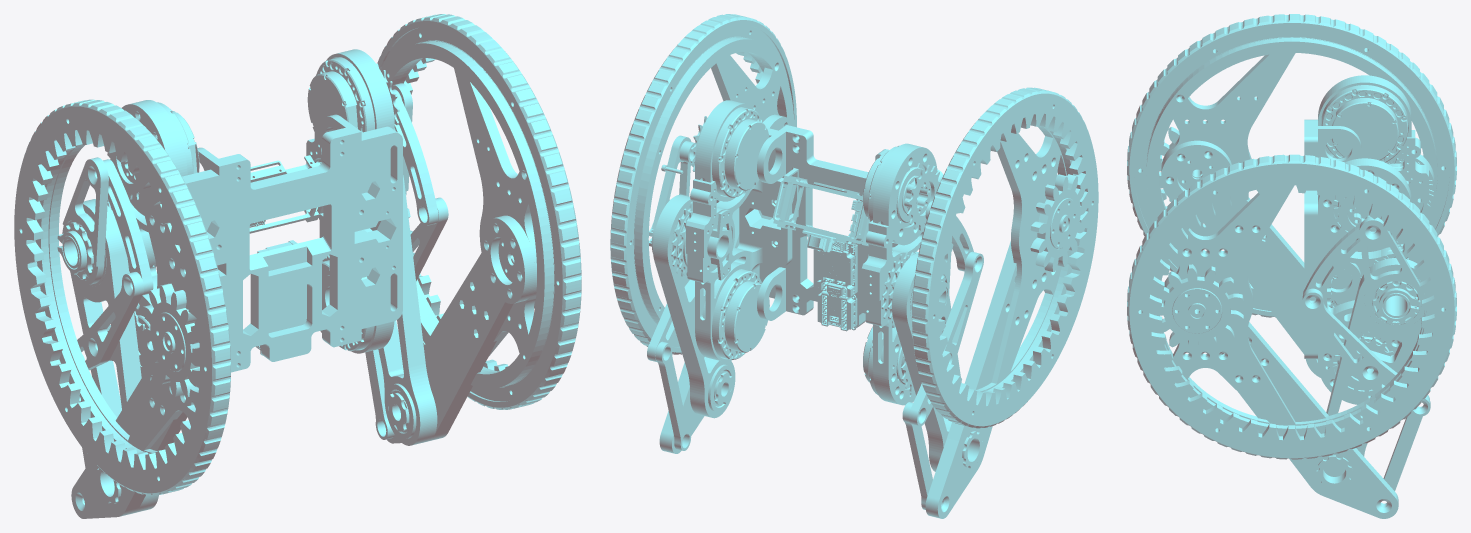
Rendered from Bipedal Wheelchair 3D Prototype Overall Assembly.glb.
3 renders of one model, left to right at view 1: azimuth 30°, elevation 25°; view 2: azimuth 150°, elevation 25°; view 3: azimuth 270°, elevation 25°, orthographic. The views are drawn at different scales.
Visible parts, largest first — view 1: Node10, Node5, Node9, Node3, Node7, Node16, Node11, Node4, Node14, Node2, Node8, Node6 (+4 smaller); view 2: Node5, Node3, Node10, Node14, Node9, Node11, Node2, Node4, Node6, Node13, Node8, Node7 (+4 smaller); view 3: Node1, Node11, Node15, Node12, Node8, Node10, Node9, Node16, Node7, Node4, Node2, Node3 (+4 smaller).
Part boxes in pixels (x1,y1,x2,y2): Node10: [26, 32, 571, 494]; Node5: [14, 40, 580, 493]; Node9: [29, 15, 581, 501]; Node3: [19, 14, 581, 511]; Node7: [27, 18, 566, 495]; Node16: [31, 16, 578, 510]; Node11: [30, 46, 581, 504]; Node4: [28, 15, 575, 511]; Node14: [30, 14, 579, 518]; Node2: [28, 14, 581, 516]; Node8: [28, 14, 549, 495]; Node6: [24, 17, 561, 496]; Node5: [614, 36, 1098, 444]; Node3: [611, 25, 1087, 506]; Node10: [613, 14, 1085, 503]; Node14: [617, 18, 1087, 518]; Node9: [613, 14, 1086, 495]; Node11: [610, 14, 1087, 468]; Node2: [610, 19, 1087, 459]; Node4: [611, 45, 1093, 509]; Node6: [610, 20, 1086, 435]; Node13: [611, 17, 1084, 426]; Node8: [646, 32, 1085, 496]; Node7: [619, 17, 1088, 463]; Node1: [1129, 14, 1456, 518]; Node11: [1127, 14, 1456, 504]; Node15: [1146, 41, 1449, 482]; Node12: [1127, 14, 1444, 479]; Node8: [1127, 18, 1454, 509]; Node10: [1136, 37, 1453, 436]; Node9: [1127, 15, 1449, 497]; Node16: [1129, 37, 1437, 507]; Node7: [1154, 17, 1455, 490]; Node4: [1137, 37, 1456, 505]; Node2: [1127, 41, 1456, 435]; Node3: [1127, 31, 1444, 478].
Bounding box in the file's own units: 397 × 449 × 366.
